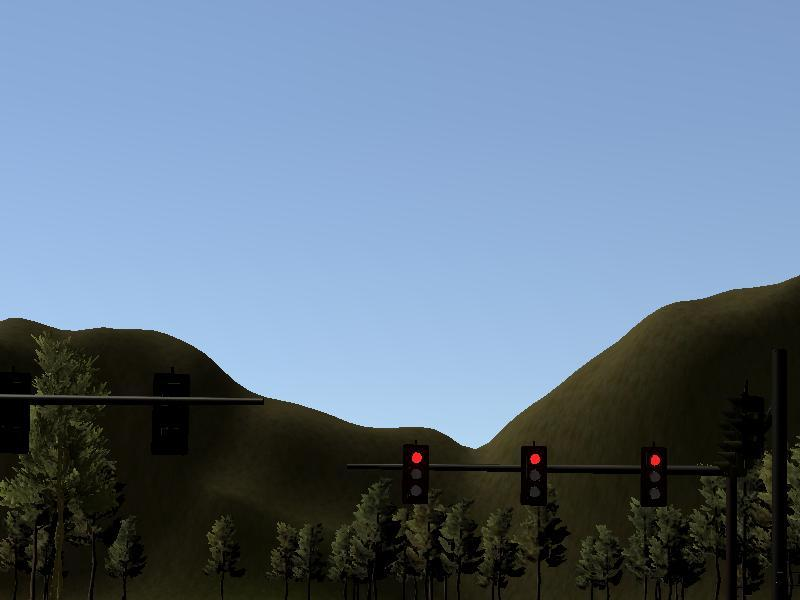Red: (638, 446, 666, 507), (519, 446, 547, 507), (401, 443, 429, 504)
